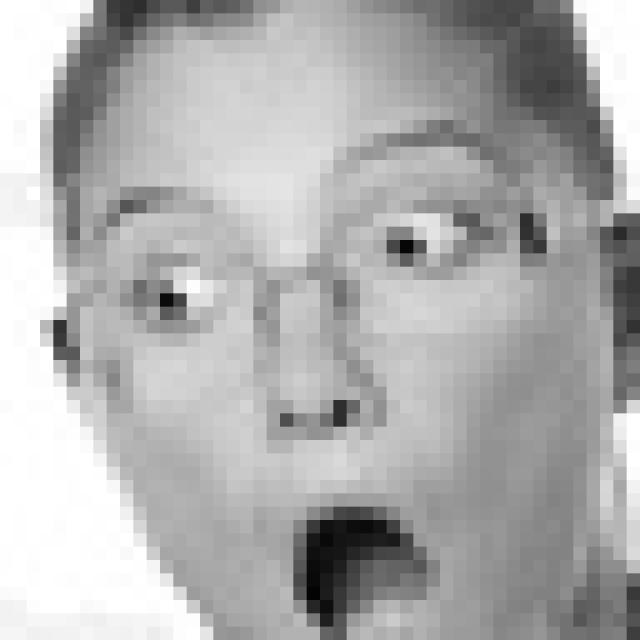surprise: (100, 109, 526, 640)
